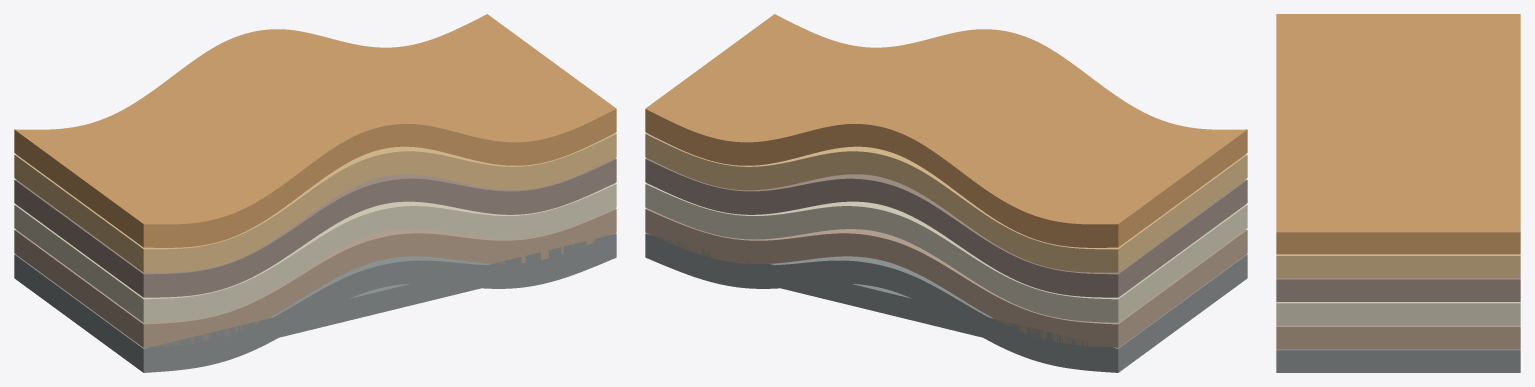
Rendered from elective-folded-strata.glb.
The picture shows the model from 3 angles, left to right: view 1: azimuth 30°, elevation 25°; view 2: azimuth 150°, elevation 25°; view 3: azimuth 270°, elevation 25°; orthographic projection. The views are drawn at different scales.
Parts seen in each view (by area): view 1: Stratum_01, Stratum_04, Stratum_03, Stratum_02, Stratum_05, Crystalline_Basement, Stratum_06; view 2: Stratum_01, Stratum_04, Stratum_03, Stratum_02, Stratum_05, Crystalline_Basement, Stratum_06; view 3: Stratum_01, Stratum_05, Stratum_02, Stratum_03, Stratum_04, Crystalline_Basement, Stratum_06.
Part boxes in pixels (left/top/right/bottom): Stratum_01: left=14, top=14, right=616, bottom=247; Stratum_04: left=14, top=183, right=616, bottom=322; Stratum_03: left=14, top=158, right=616, bottom=297; Stratum_02: left=14, top=133, right=616, bottom=272; Stratum_05: left=14, top=208, right=616, bottom=347; Crystalline_Basement: left=14, top=233, right=616, bottom=370; Stratum_06: left=14, top=235, right=616, bottom=372; Stratum_01: left=645, top=14, right=1247, bottom=247; Stratum_04: left=645, top=183, right=1247, bottom=322; Stratum_03: left=645, top=158, right=1247, bottom=297; Stratum_02: left=645, top=133, right=1247, bottom=272; Stratum_05: left=645, top=208, right=1247, bottom=347; Crystalline_Basement: left=645, top=233, right=1247, bottom=370; Stratum_06: left=645, top=234, right=1247, bottom=372; Stratum_01: left=1276, top=14, right=1520, bottom=254; Stratum_05: left=1276, top=325, right=1520, bottom=349; Stratum_02: left=1276, top=254, right=1520, bottom=277; Stratum_03: left=1276, top=278, right=1520, bottom=301; Stratum_04: left=1276, top=302, right=1520, bottom=325; Crystalline_Basement: left=1276, top=349, right=1520, bottom=370; Stratum_06: left=1276, top=350, right=1520, bottom=372.
Bounding box in the file's own units: 11.4 × 4.53 × 5.4.
